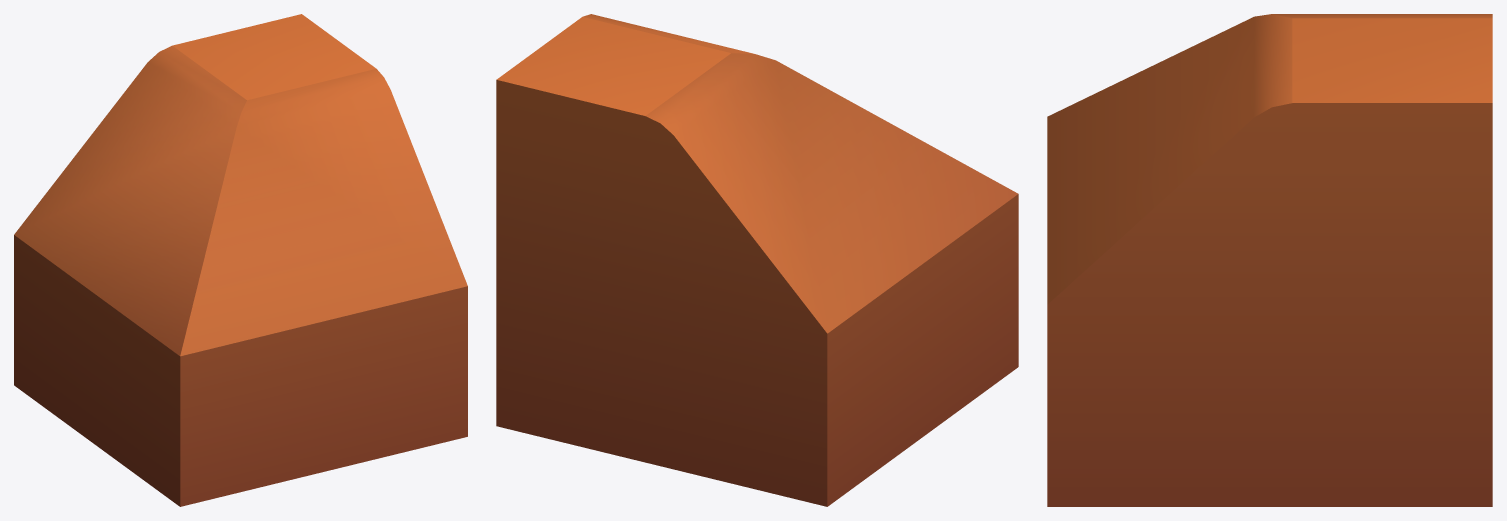
Rendered from kaykit_terrain_slope_outer_corner_v01.glb.
3 views of the same model, side by side, from view 1: azimuth 30°, elevation 25°; view 2: azimuth 150°, elevation 25°; view 3: azimuth 270°, elevation 25° (orthographic). The views are drawn at different scales.
Parts seen in each view (by area): view 1: terrain_slope_outer_corner; view 2: terrain_slope_outer_corner; view 3: terrain_slope_outer_corner.
Part boxes in pixels (left/top/right/bottom): terrain_slope_outer_corner: left=14, top=14, right=467, bottom=506; terrain_slope_outer_corner: left=496, top=14, right=1018, bottom=506; terrain_slope_outer_corner: left=1047, top=14, right=1492, bottom=506.
Bounding box in the file's own units: 2 × 2 × 2.
1 material, 1 textured.
